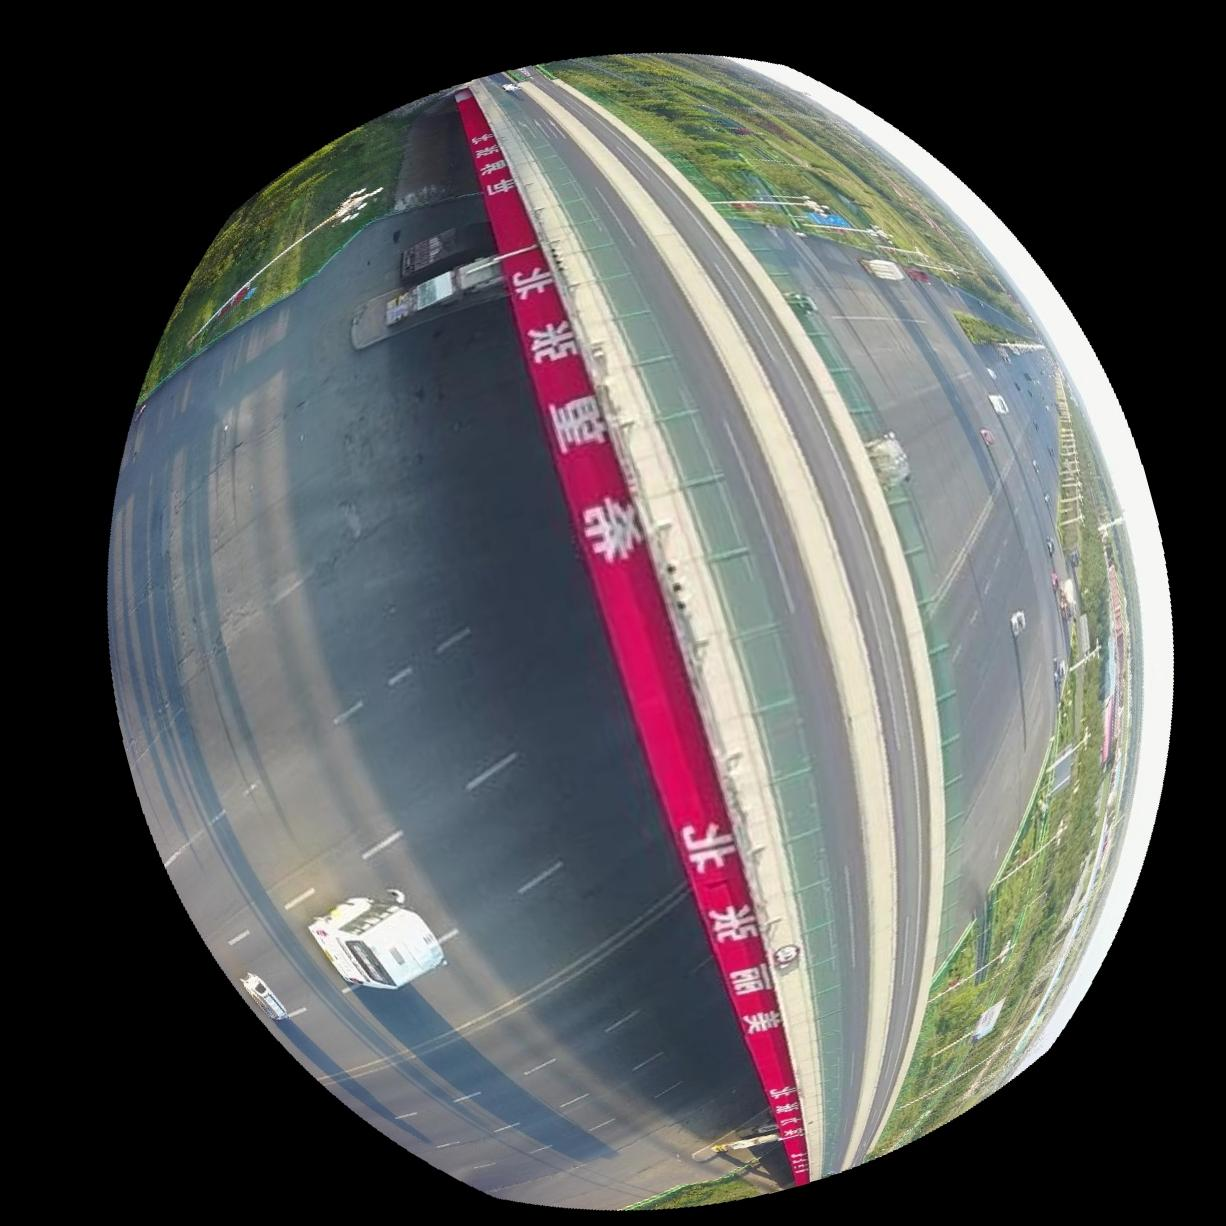cars: (305, 889, 442, 989), (397, 220, 491, 280), (237, 973, 303, 1022), (863, 432, 911, 487), (859, 258, 904, 278), (784, 292, 817, 314), (1010, 611, 1026, 635)
trees: (547, 53, 1028, 322), (136, 103, 422, 401), (622, 1161, 760, 1210)
